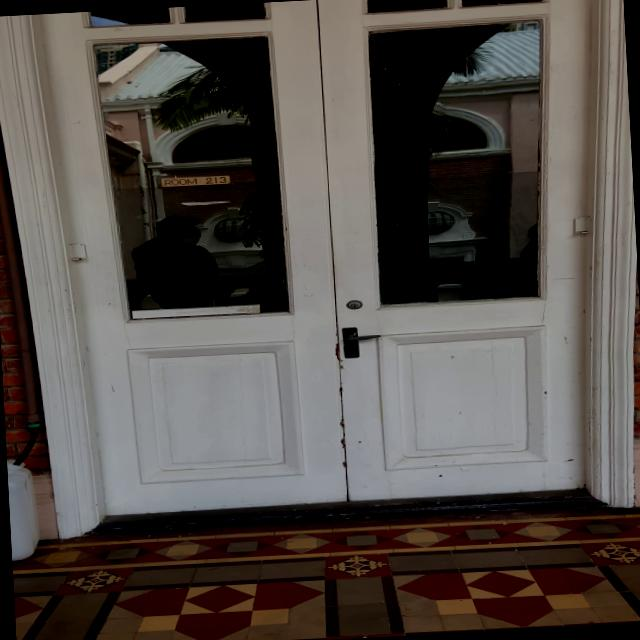room213Window: (151, 172, 237, 190)
